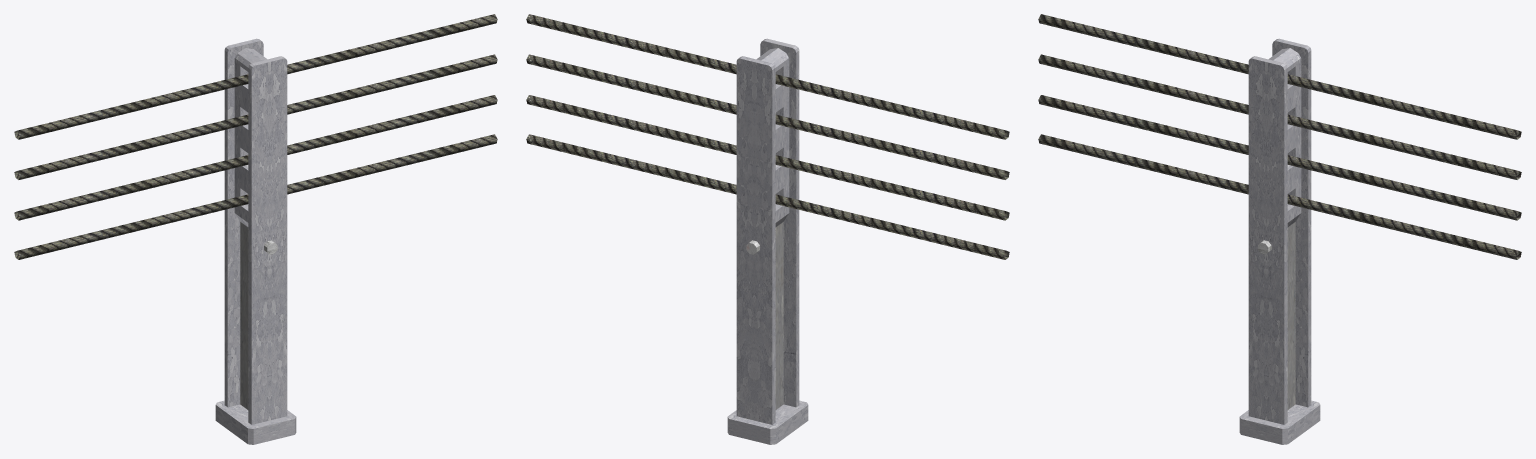
The model's file is RoadBlock_1.fbx.
3 views of the same model, side by side, from view 1: azimuth 30°, elevation 25°; view 2: azimuth 150°, elevation 25°; view 3: azimuth 330°, elevation 25° (orthographic).
Visible parts, largest first — view 1: RoadBlock_1; view 2: RoadBlock_1; view 3: RoadBlock_1.
Boxes of the visible parts, x1,y1,x2,y2 form: RoadBlock_1: [14, 14, 497, 444]; RoadBlock_1: [526, 14, 1009, 444]; RoadBlock_1: [1038, 14, 1521, 444].
Size of the model in its own units: 3.26 by 2.44 by 0.431.
2 materials, 2 textured.
